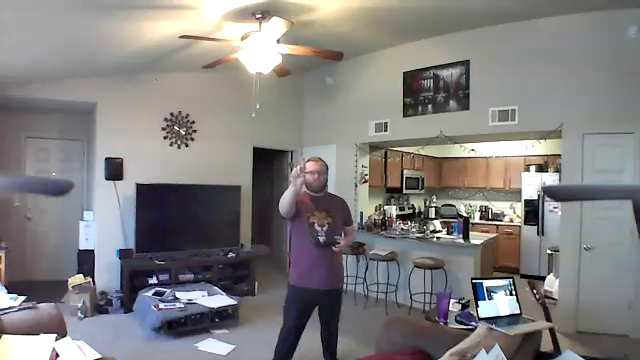up: (286, 152, 308, 184)
